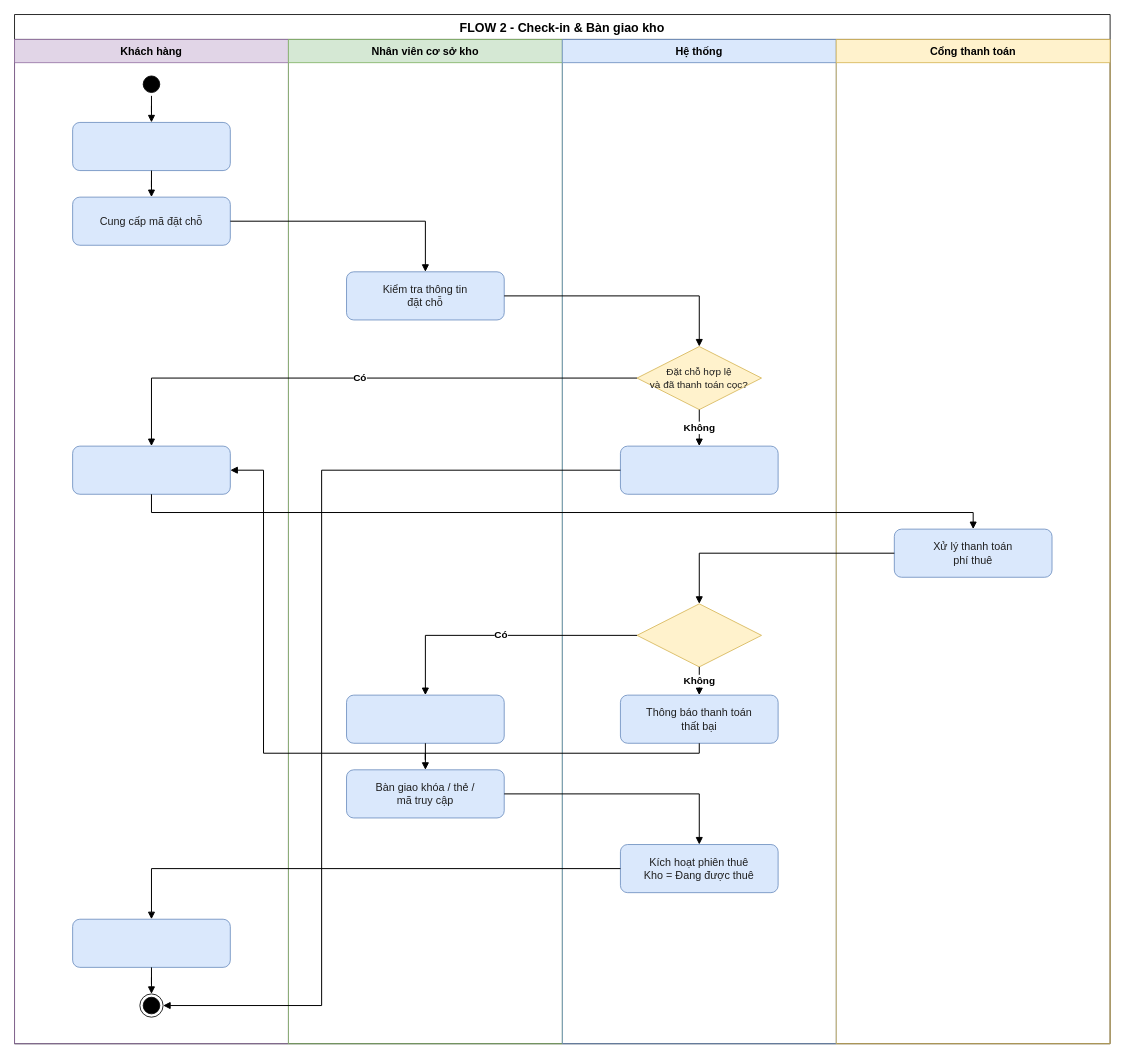
Image size: 1125x1058. Some labels were removed from this diagram. Here are the shapes that lost their labels. From the top down, the centre of each, then its label:
(151,146): Đến nhận kho
(151,469): Thanh toán 100% phí thuê
(699,469): Thông báo không đủ điều kiện nhận kho
(699,635): Thanh toán thành công?
(425,718): Bàn giao kho
(151,942): Bắt đầu sử dụng kho
